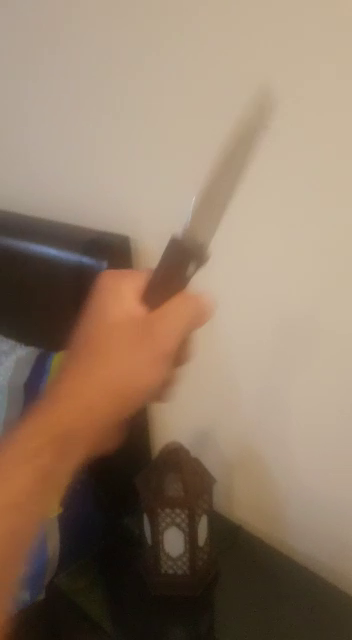knife: (61, 58, 291, 468)
